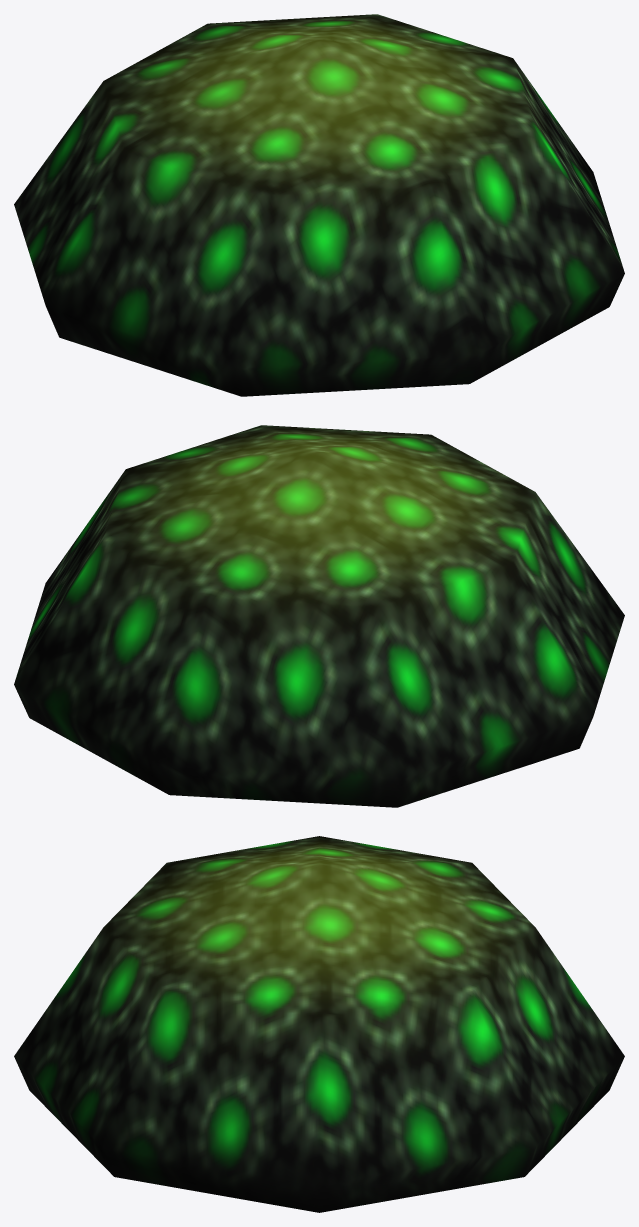
File: Coral_24.FBX
The picture shows the model from 3 angles, top to bottom: view 1: azimuth 30°, elevation 25°; view 2: azimuth 150°, elevation 25°; view 3: azimuth 270°, elevation 25°; orthographic projection. The views are drawn at different scales.
Parts seen in each view (by area): view 1: Coral_24; view 2: Coral_24; view 3: Coral_24.
Boxes of the visible parts, x1,y1,x2,y2 form: Coral_24: (14,14,624,396); Coral_24: (14,425,624,807); Coral_24: (14,836,624,1212).
Bounding box in the file's own units: 76.3 × 30.92 × 76.3.
